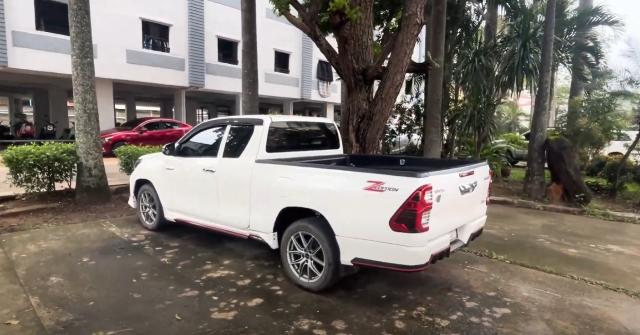pickup-truck: (125, 110, 495, 293)
